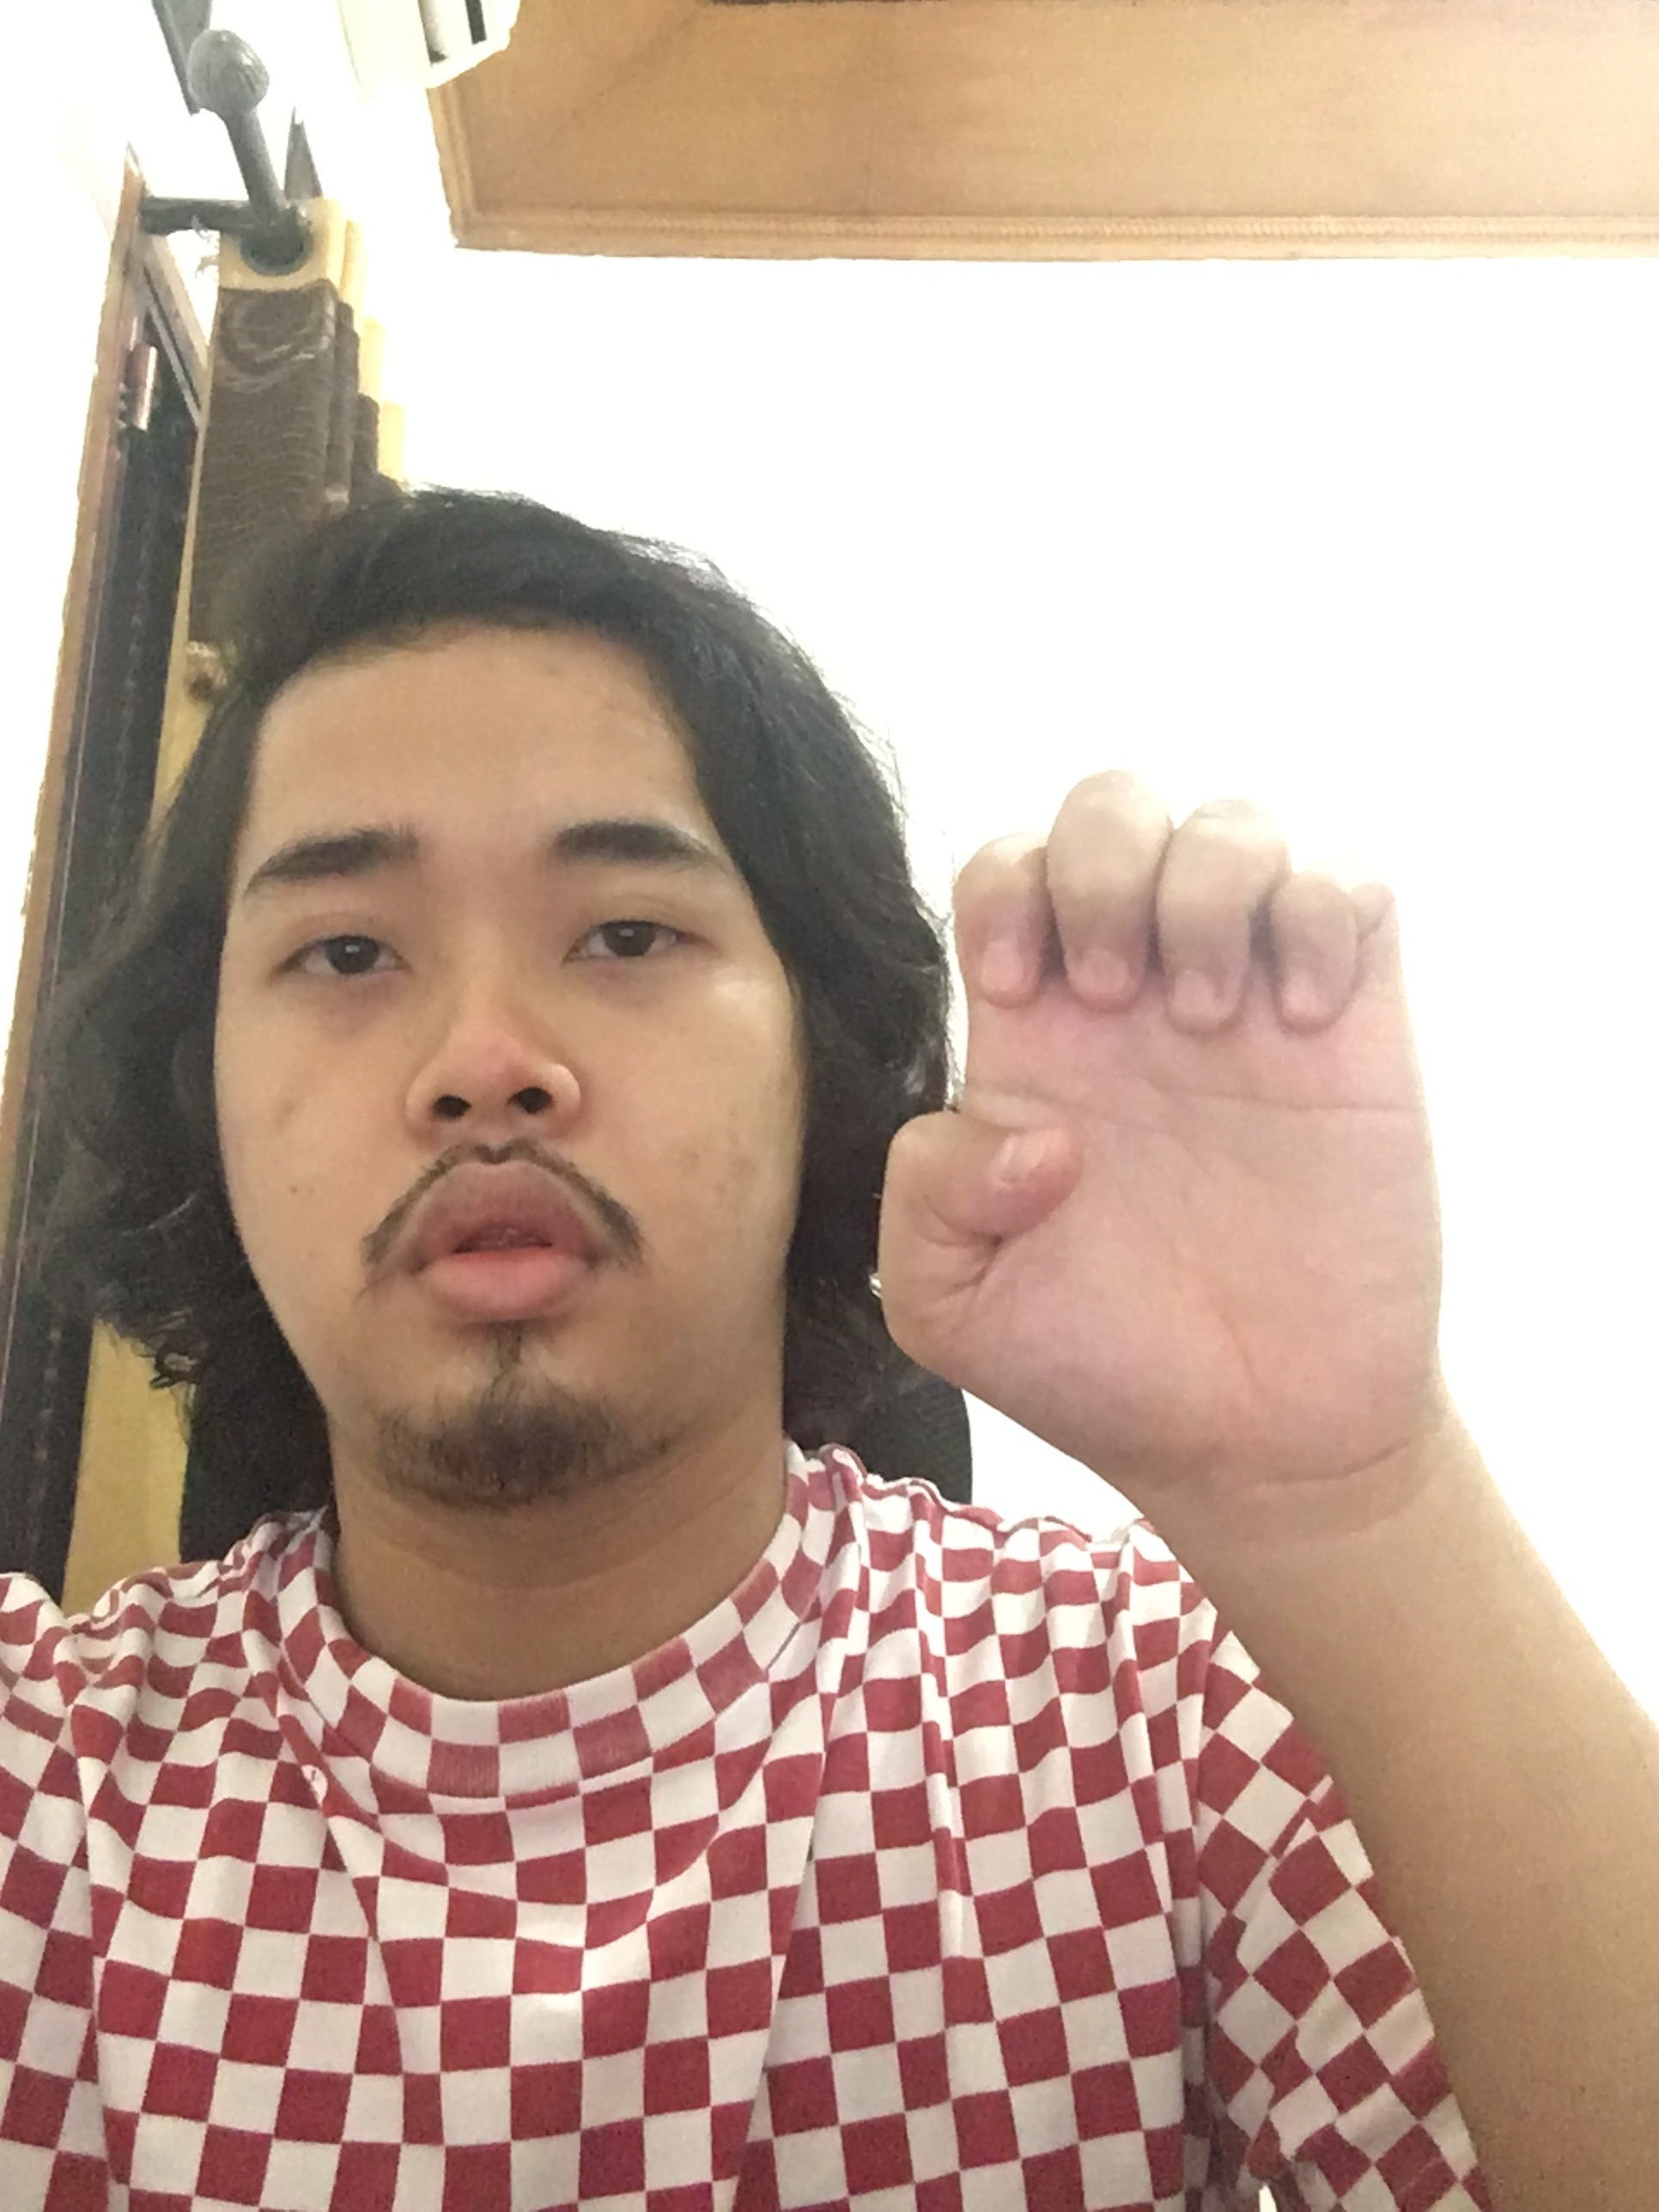E: (884, 763, 1509, 1538)
